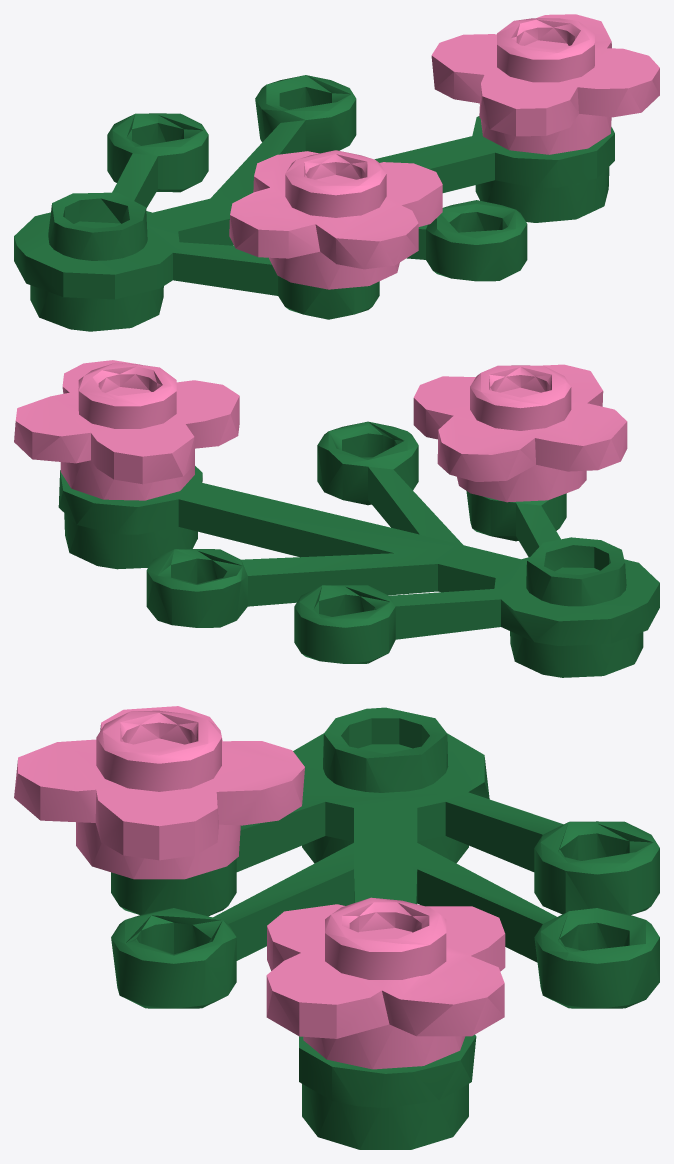
Rendered from frog_stem_b_pink.glb.
3 renders of one model, top to bottom at view 1: azimuth 30°, elevation 25°; view 2: azimuth 150°, elevation 25°; view 3: azimuth 270°, elevation 25°, orthographic. The views are drawn at different scales.
Visible parts, largest first — view 1: frog_stem_b_pink; view 2: frog_stem_b_pink; view 3: frog_stem_b_pink.
Part boxes in pixels (bbox=[...]): frog_stem_b_pink: bbox=[14, 14, 659, 331]; frog_stem_b_pink: bbox=[14, 360, 659, 677]; frog_stem_b_pink: bbox=[14, 706, 659, 1149].
Bounding box in the file's own units: 1.17 × 0.3053 × 0.875.
